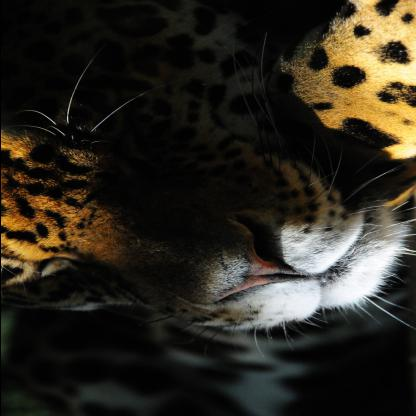leopard: (1, 92, 393, 341)
